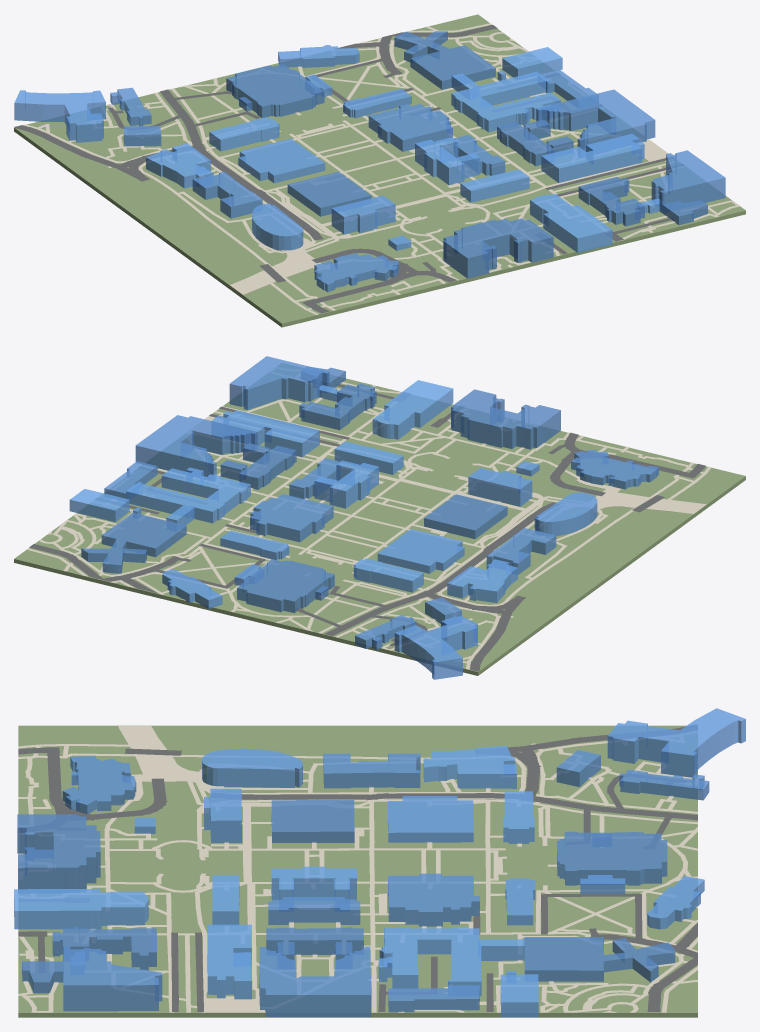
File: umn.glb
The picture shows the model from 3 angles, top to bottom: view 1: azimuth 30°, elevation 25°; view 2: azimuth 150°, elevation 25°; view 3: azimuth 270°, elevation 25°; orthographic projection. The views are drawn at different scales.
Parts seen in each view (by area): view 1: ground, paths, roads, Coffman Memorial Union, Mechanical Engineering, Kenneth H Keller Hall, Northrop Memorial Auditorium, Elliott Hall, Ralph Rapson Hall, Amundson Hall, Molecular & Cellular Biology, Nils Hasselmo Hall (+21 smaller); view 2: ground, paths, roads, Kenneth H Keller Hall, Mechanical Engineering, Coffman Memorial Union, Molecular & Cellular Biology, Northrop Memorial Auditorium, Ralph Rapson Hall, Elliott Hall, Tate Laboratory of Physics, Nils Hasselmo Hall (+20 smaller); view 3: ground, paths, roads, Kenneth H Keller Hall, Coffman Memorial Union, Mechanical Engineering, Elliott Hall, Ralph Rapson Hall, Northrop Memorial Auditorium, Molecular & Cellular Biology, Nils Hasselmo Hall, Tate Laboratory of Physics (+22 smaller).
Part boxes in pixels (left/top/right/bottom): ground: left=14, top=14, right=745, bottom=327; paths: left=23, top=23, right=739, bottom=314; roads: left=14, top=25, right=683, bottom=313; Coffman Memorial Union: left=443, top=218, right=553, bottom=278; Mechanical Engineering: left=451, top=71, right=560, bottom=132; Kenneth H Keller Hall: left=536, top=89, right=655, bottom=152; Northrop Memorial Auditorium: left=226, top=64, right=324, bottom=117; Elliott Hall: left=14, top=90, right=105, bottom=142; Ralph Rapson Hall: left=394, top=31, right=495, bottom=89; Amundson Hall: left=541, top=134, right=644, bottom=182; Molecular & Cellular Biology: left=651, top=150, right=725, bottom=212; Nils Hasselmo Hall: left=530, top=193, right=612, bottom=252; ground: left=14, top=363, right=745, bottom=675; paths: left=27, top=367, right=711, bottom=669; roads: left=29, top=384, right=705, bottom=671; Kenneth H Keller Hall: left=135, top=415, right=257, bottom=476; Mechanical Engineering: left=126, top=467, right=250, bottom=525; Coffman Memorial Union: left=451, top=389, right=560, bottom=449; Molecular & Cellular Biology: left=229, top=356, right=329, bottom=409; Northrop Memorial Auditorium: left=237, top=559, right=334, bottom=613; Ralph Rapson Hall: left=81, top=512, right=186, bottom=573; Elliott Hall: left=394, top=616, right=477, bottom=679; Tate Laboratory of Physics: left=250, top=494, right=333, bottom=542; Nils Hasselmo Hall: left=372, top=380, right=453, bottom=439; ground: left=18, top=725, right=697, bottom=1017; paths: left=18, top=725, right=697, bottom=1012; roads: left=18, top=725, right=697, bottom=1011; Kenneth H Keller Hall: left=259, top=946, right=370, bottom=1017; Coffman Memorial Union: left=17, top=814, right=100, bottom=889; Mechanical Engineering: left=378, top=927, right=524, bottom=996; Elliott Hall: left=607, top=708, right=745, bottom=777; Ralph Rapson Hall: left=524, top=937, right=675, bottom=982; Northrop Memorial Auditorium: left=557, top=831, right=667, bottom=885; Molecular & Cellular Biology: left=63, top=946, right=162, bottom=1011; Nils Hasselmo Hall: left=14, top=888, right=148, bottom=929; Tate Laboratory of Physics: left=388, top=873, right=479, bottom=926.
Size of the model in its own units: 0.5078 by 0.025 by 0.5383.
